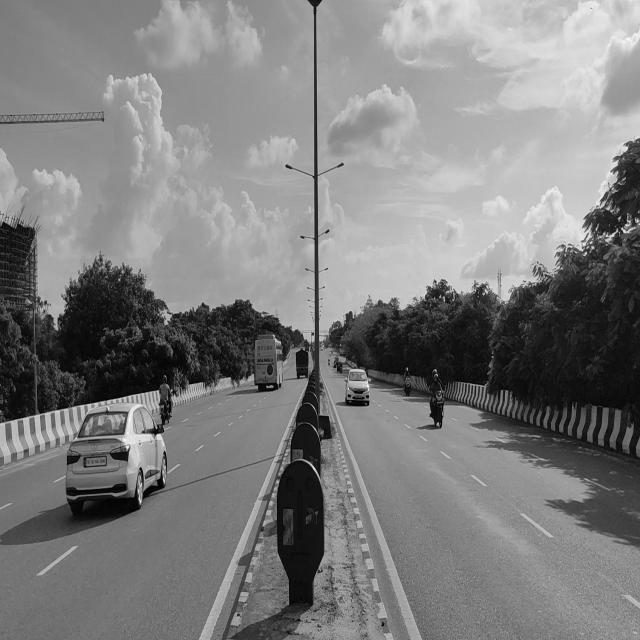bike: (425, 387, 449, 428), (156, 394, 178, 431)
bus: (250, 328, 286, 406)
car: (64, 403, 168, 529), (342, 364, 374, 418)
